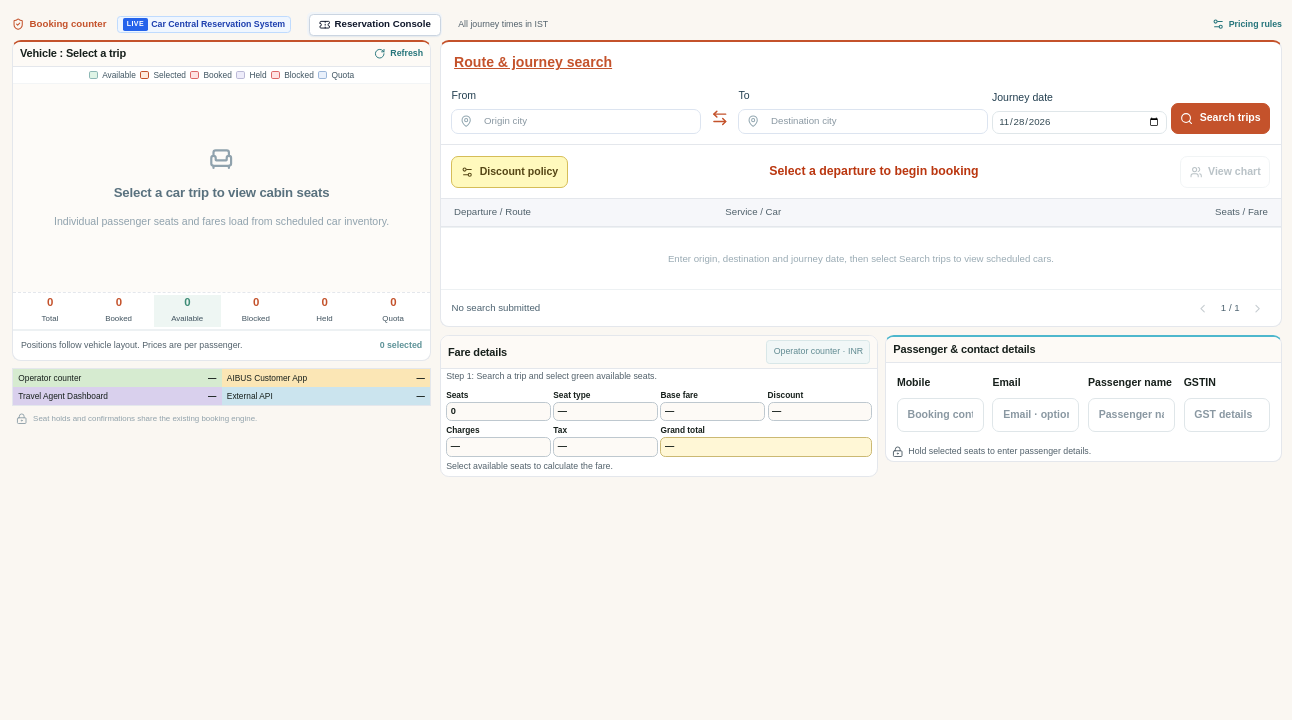
it: Booking Counter › updates car seat map prices when a matched distance segment or dropdown segment is selected
Step 1. Type "Pune" into the dropdown named "Counter from" → (586, 121), box [479,110,693,133]
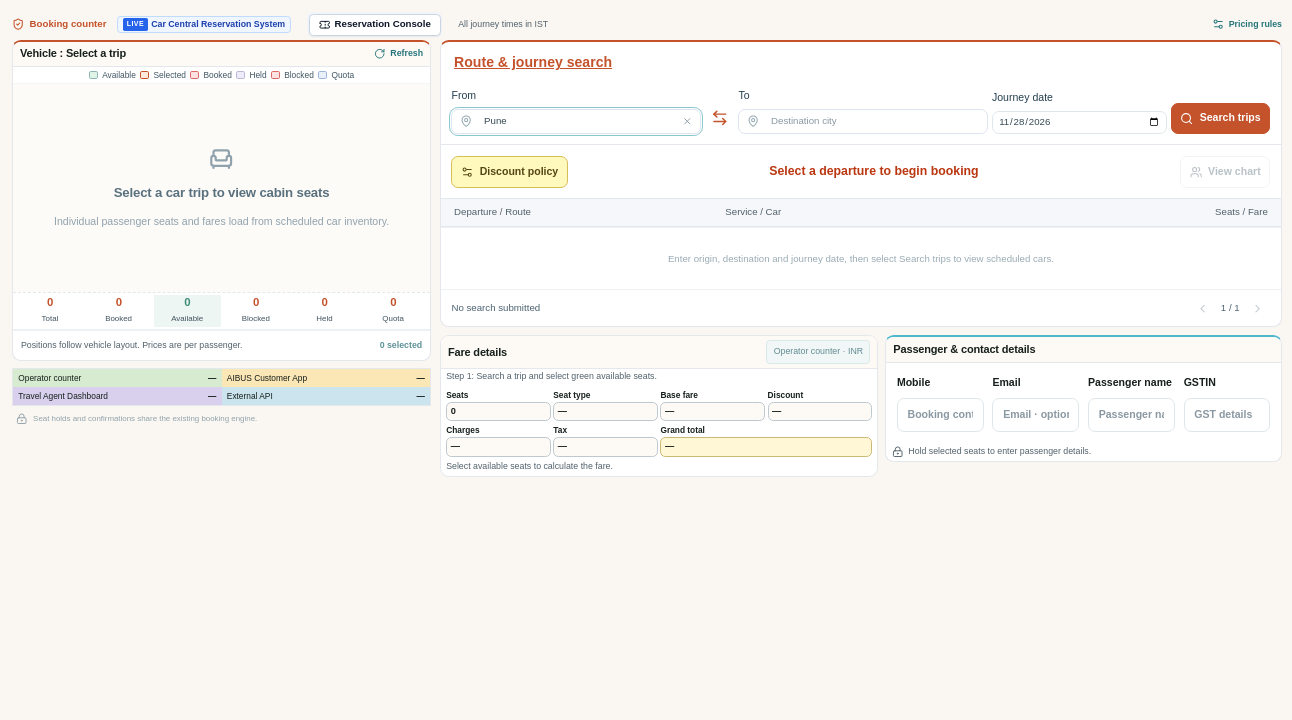
Step 2. Type "Mumbai" into the dropdown named "Counter to" → (873, 121), box [766,110,980,133]
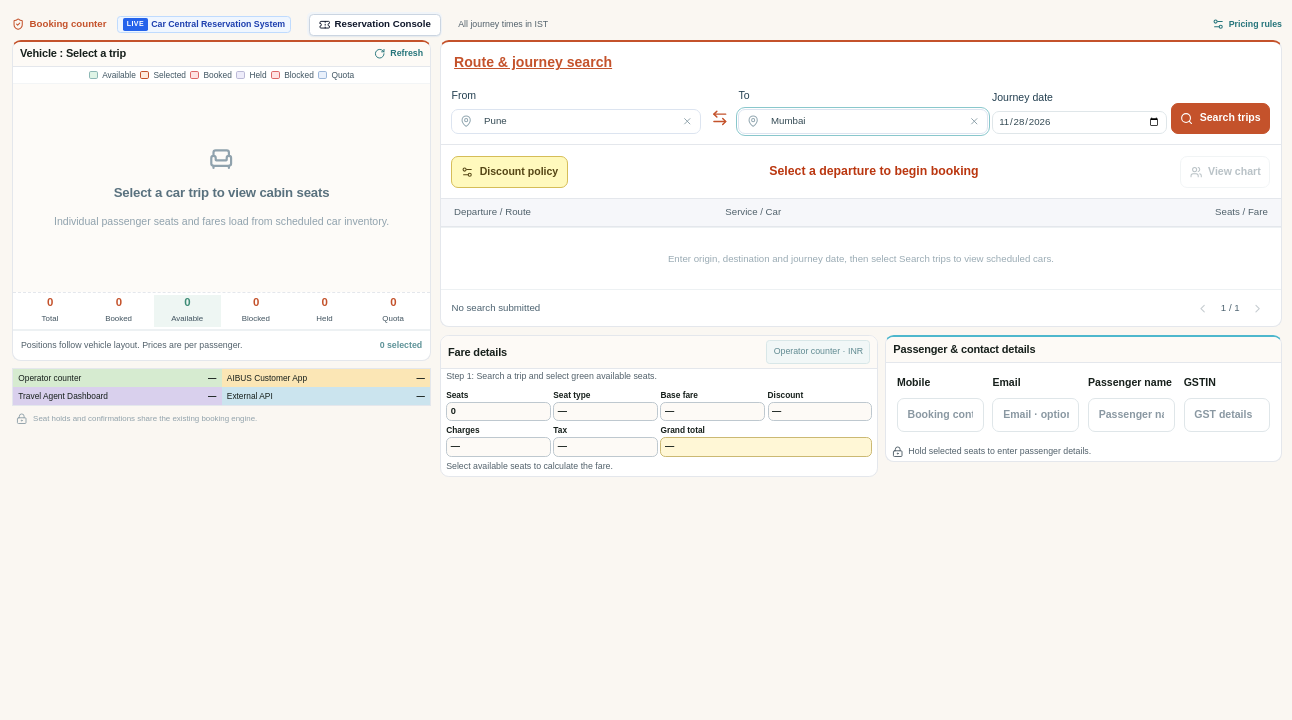
Step 3. Click the button "Search trips" → (1220, 118), box [1170,103,1270,134]
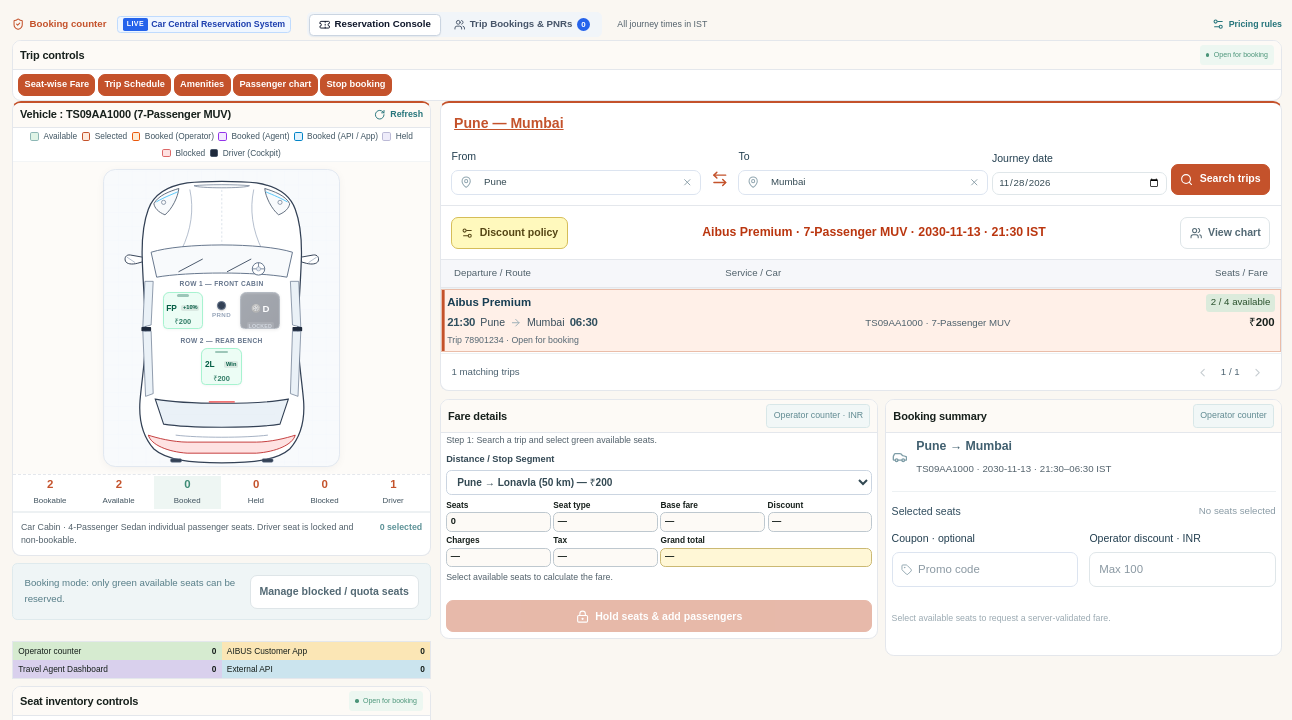
expect the button with aria-label "FP, available, 200 rupees" is shown: met, box [163,292,203,329]
expect the button with aria-label "2L, available, 200 rupees" is shown: met, box [201,348,242,385]
Step 4. Select "Default seat fare (Pune → Mumbai)" in the dropdown labelled "Distance / Stop Segment" → (659, 482), box [446,470,872,494]
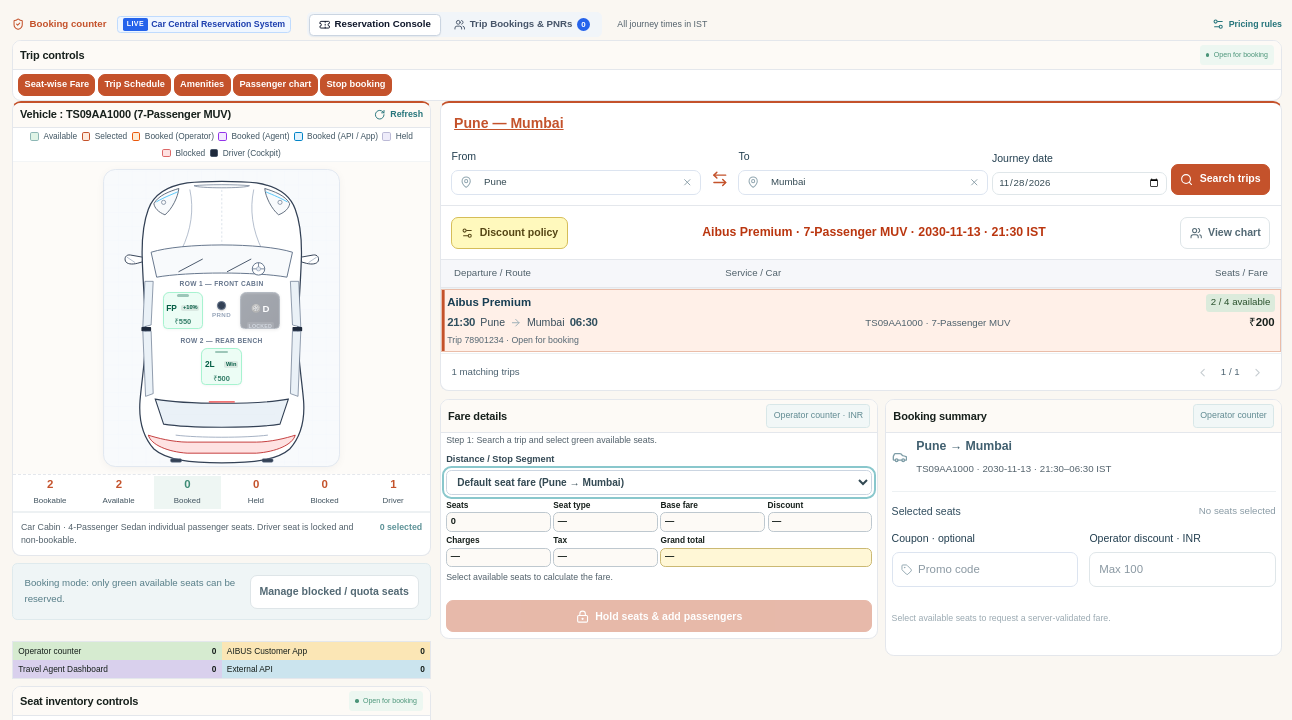
expect the button with aria-label "FP, available, 550 rupees" is shown: met, box [163,292,203,329]
expect the button with aria-label "2L, available, 500 rupees" is shown: met, box [201,348,242,385]
